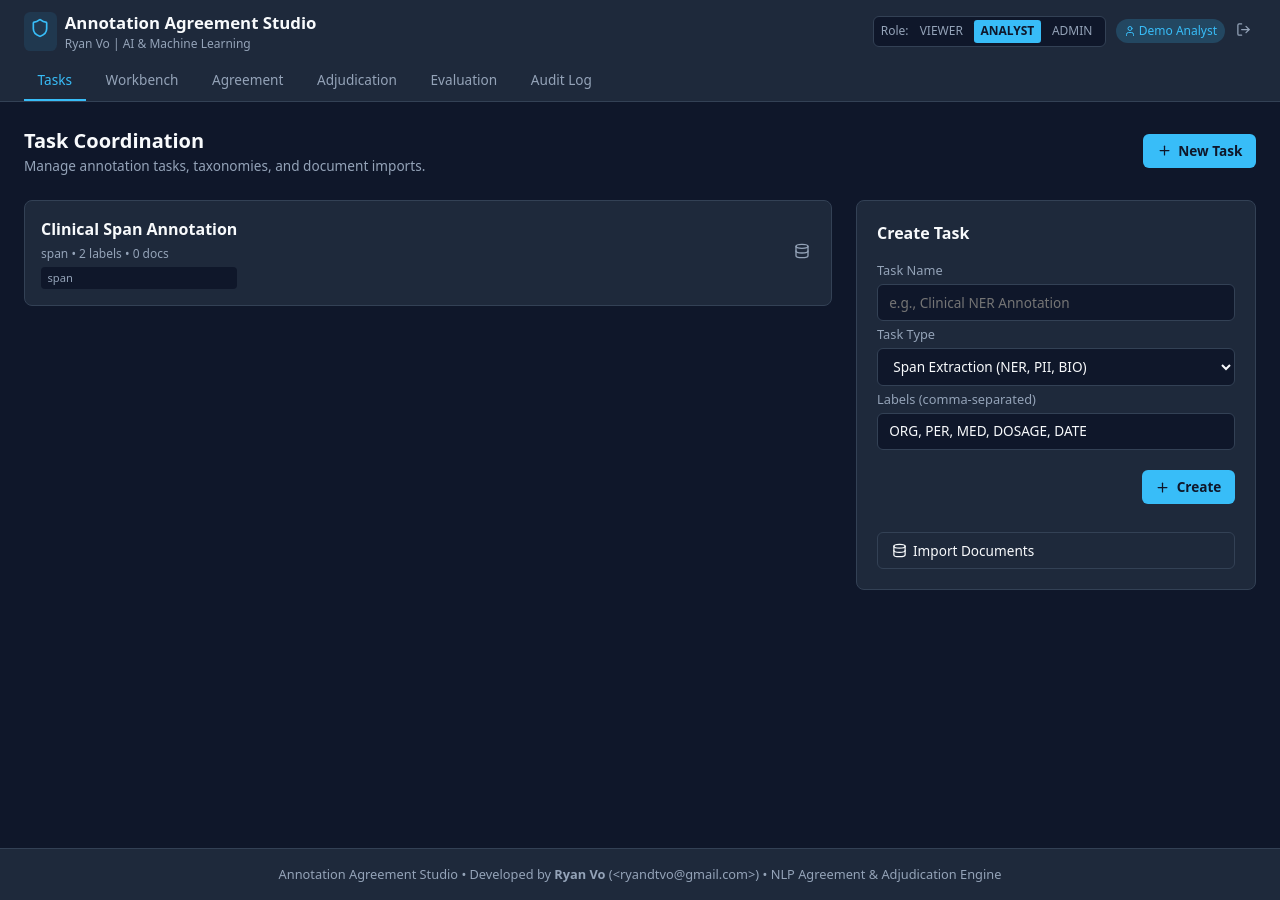
Annotation Agreement Studio Frontend › switches between navigation tabs and displays task list
This screenshot has width=1280, height=900.
Check: the text "Clinical Span Annotation" is shown, box [41,217,237,241]
Click the button "Evaluation": (464, 82) [417,62,511,101]
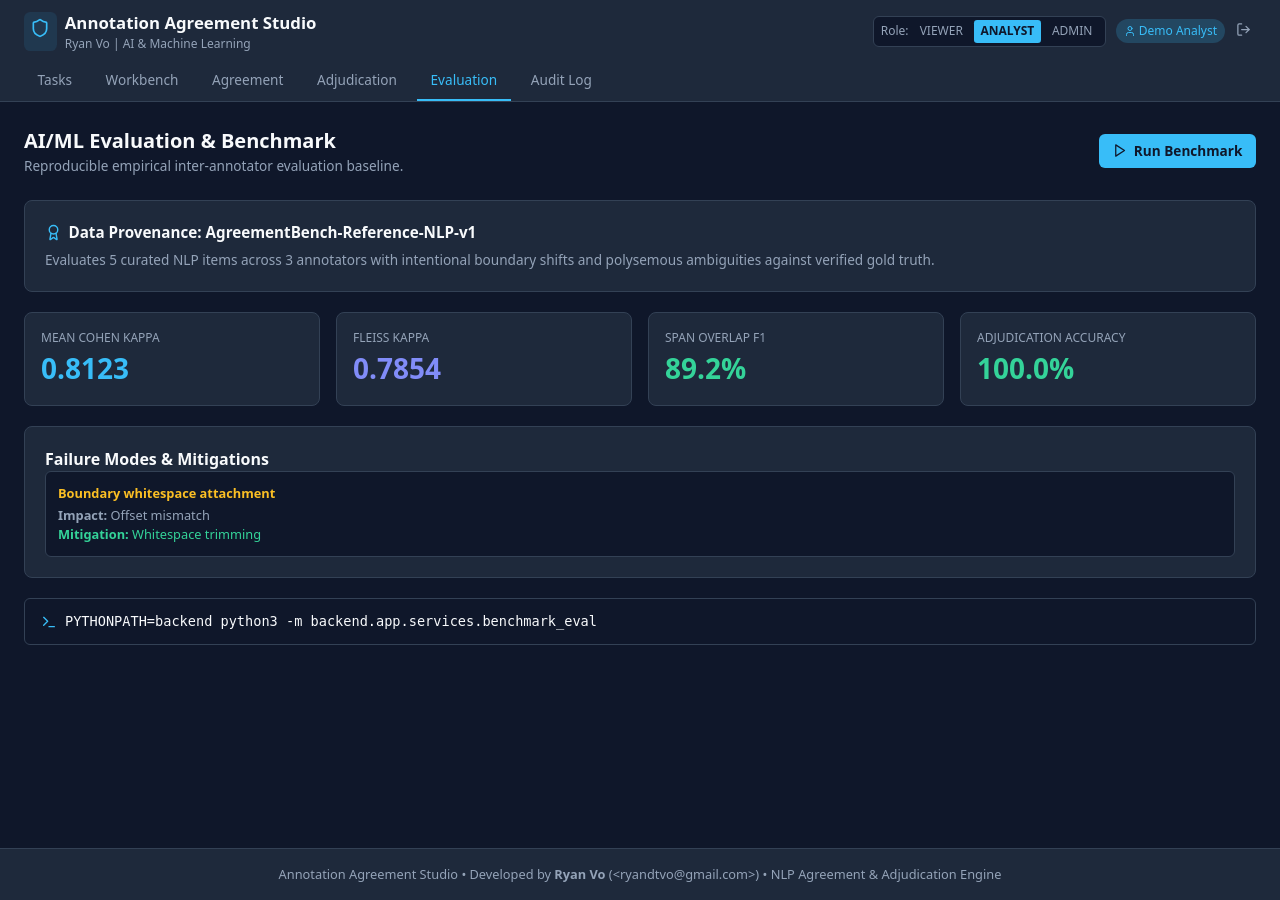
Check: the heading "AI/ML Evaluation & Benchmark" is shown, box [24,127,336,154]
Check: the heading "Data Provenance: AgreementBench-Reference-NLP-v1" is shown, box [45,222,476,242]
